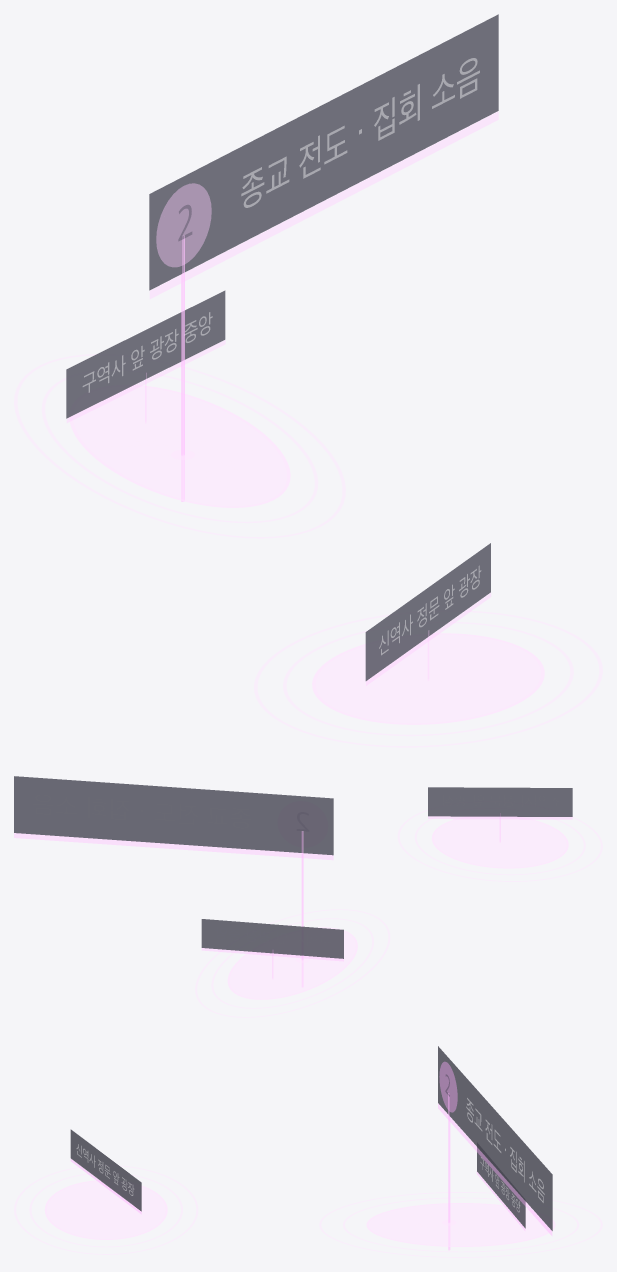
3 renders of one model, top to bottom at view 1: azimuth 30°, elevation 25°; view 2: azimuth 150°, elevation 25°; view 3: azimuth 270°, elevation 25°, orthographic. The views are drawn at different scales.
Visible parts, largest first — view 1: P2_Plate, P2_Heat_0, P2_Heat_1, PS_2_3_Plate, PS_2_4_Plate, P2_NumDisc, P2_Accent, P2_Title, P2_Wave_0_2, P2_Wave_1_2, P2_Wave_0_1, P2_Wave_1_1 (+3 smaller); view 2: P2_Plate, P2_Heat_1, P2_Heat_0, PS_2_4_Plate, PS_2_3_Plate, P2_Accent, P2_Wave_0_2, P2_Wave_0_1, P2_Wave_1_2, PS_2_3_Acc, P2_Wave_1_1, PS_2_4_Acc (+2 smaller); view 3: P2_Plate, P2_Heat_0, P2_Heat_1, PS_2_4_Plate, PS_2_3_Plate, P2_NumDisc, P2_Wave_0_2, P2_Accent, P2_Wave_1_2, P2_Wave_0_1, P2_Wave_1_1, P2_Pole (+3 smaller).
Part boxes in pixels (x1=…): P2_Plate: x1=149, y1=14, x2=498, y2=290; P2_Heat_0: x1=70, y1=385, x2=290, y2=507; P2_Heat_1: x1=312, y1=633, x2=544, y2=724; PS_2_3_Plate: x1=66, y1=290, x2=225, y2=418; PS_2_4_Plate: x1=365, y1=543, x2=490, y2=680; P2_NumDisc: x1=156, y1=183, x2=211, y2=266; P2_Accent: x1=150, y1=111, x2=498, y2=298; P2_Title: x1=241, y1=58, x2=479, y2=207; P2_Wave_0_2: x1=14, y1=354, x2=345, y2=538; P2_Wave_1_2: x1=254, y1=611, x2=602, y2=747; P2_Wave_0_1: x1=42, y1=374, x2=317, y2=522; P2_Wave_1_1: x1=283, y1=622, x2=573, y2=735; P2_Plate: x1=14, y1=776, x2=333, y2=855; P2_Heat_1: x1=432, y1=816, x2=568, y2=868; P2_Heat_0: x1=228, y1=927, x2=357, y2=999; PS_2_4_Plate: x1=428, y1=787, x2=572, y2=816; PS_2_3_Plate: x1=201, y1=919, x2=343, y2=958; P2_Accent: x1=14, y1=833, x2=333, y2=859; P2_Wave_0_2: x1=195, y1=909, x2=389, y2=1017; P2_Wave_0_1: x1=211, y1=918, x2=373, y2=1008; P2_Wave_1_2: x1=398, y1=810, x2=602, y2=881; PS_2_3_Acc: x1=202, y1=948, x2=343, y2=961; P2_Wave_1_1: x1=415, y1=816, x2=585, y2=874; PS_2_4_Acc: x1=428, y1=816, x2=572, y2=819; P2_Plate: x1=438, y1=1046, x2=552, y2=1230; P2_Heat_0: x1=366, y1=1203, x2=555, y2=1246; P2_Heat_1: x1=45, y1=1181, x2=167, y2=1239; PS_2_4_Plate: x1=70, y1=1129, x2=141, y2=1211; PS_2_3_Plate: x1=477, y1=1147, x2=525, y2=1228; P2_NumDisc: x1=439, y1=1062, x2=457, y2=1112; P2_Wave_0_2: x1=319, y1=1192, x2=602, y2=1257; P2_Accent: x1=438, y1=1104, x2=551, y2=1235; P2_Wave_1_2: x1=14, y1=1165, x2=197, y2=1254; P2_Wave_0_1: x1=343, y1=1197, x2=578, y2=1251; P2_Wave_1_1: x1=29, y1=1173, x2=182, y2=1246; P2_Pole: x1=448, y1=1093, x2=450, y2=1250.
Bounding box in the file's own units: 174 × 89.37 × 249.
